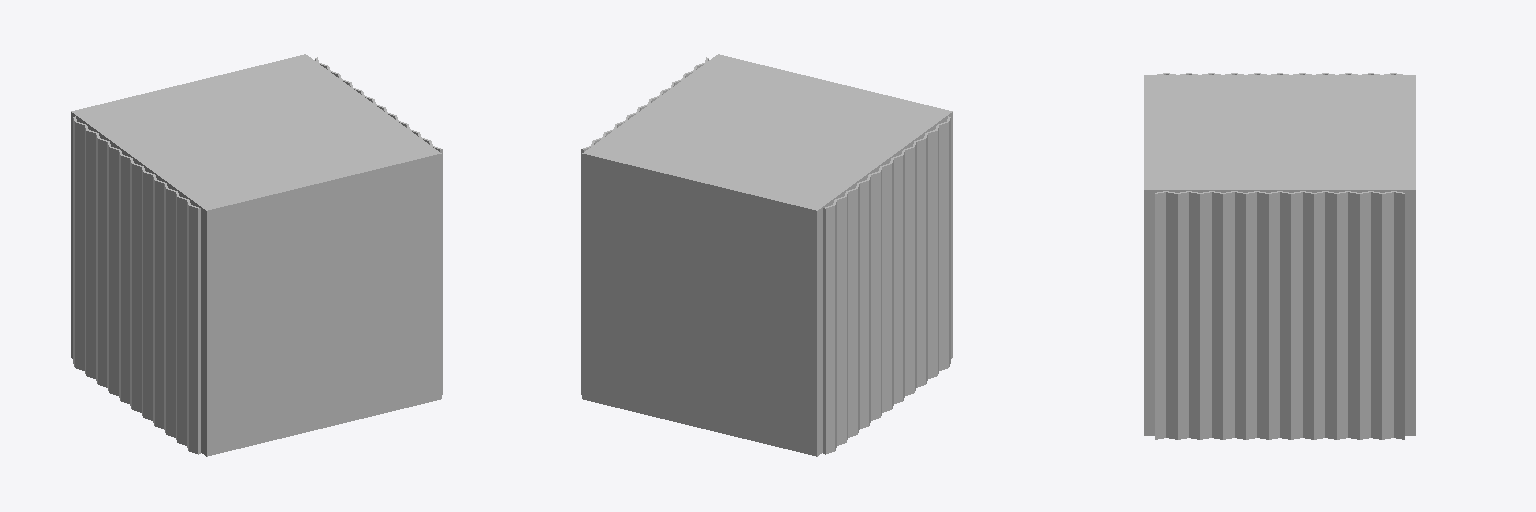
Rendered from securityBox.obj.
3 views of the same model, side by side, from view 1: azimuth 30°, elevation 25°; view 2: azimuth 150°, elevation 25°; view 3: azimuth 270°, elevation 25° (orthographic).
Visible parts, largest first — view 1: SecurityBox, ClothSecurity1, ClothSecurity2; view 2: SecurityBox, ClothSecurity1, ClothSecurity2; view 3: ClothSecurity2, SecurityBox.
Part boxes in pixels (left/top/right/bottom): SecurityBox: left=71, top=54, right=441, bottom=456; ClothSecurity1: left=73, top=116, right=200, bottom=454; ClothSecurity2: left=315, top=57, right=442, bottom=394; SecurityBox: left=582, top=54, right=952, bottom=456; ClothSecurity1: left=823, top=116, right=950, bottom=454; ClothSecurity2: left=581, top=57, right=708, bottom=394; ClothSecurity2: left=1155, top=191, right=1404, bottom=439; SecurityBox: left=1144, top=75, right=1415, bottom=435.
Size of the model in its own units: 2.11 by 2.01 by 2.